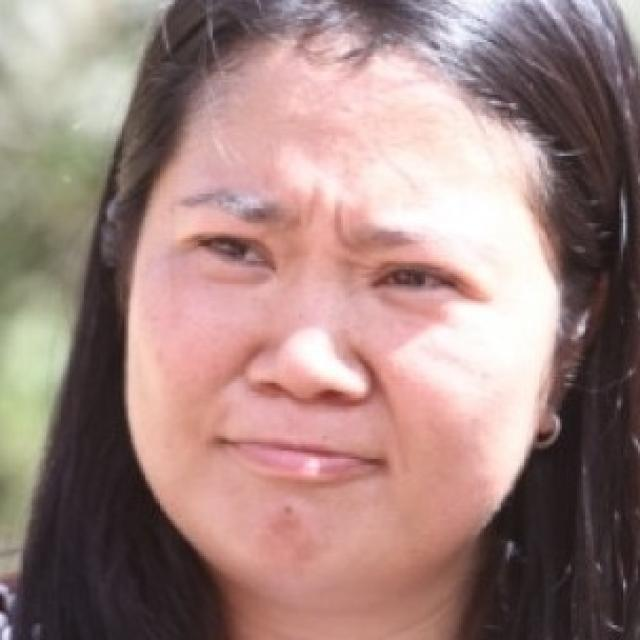Depress: (125, 40, 568, 609)
